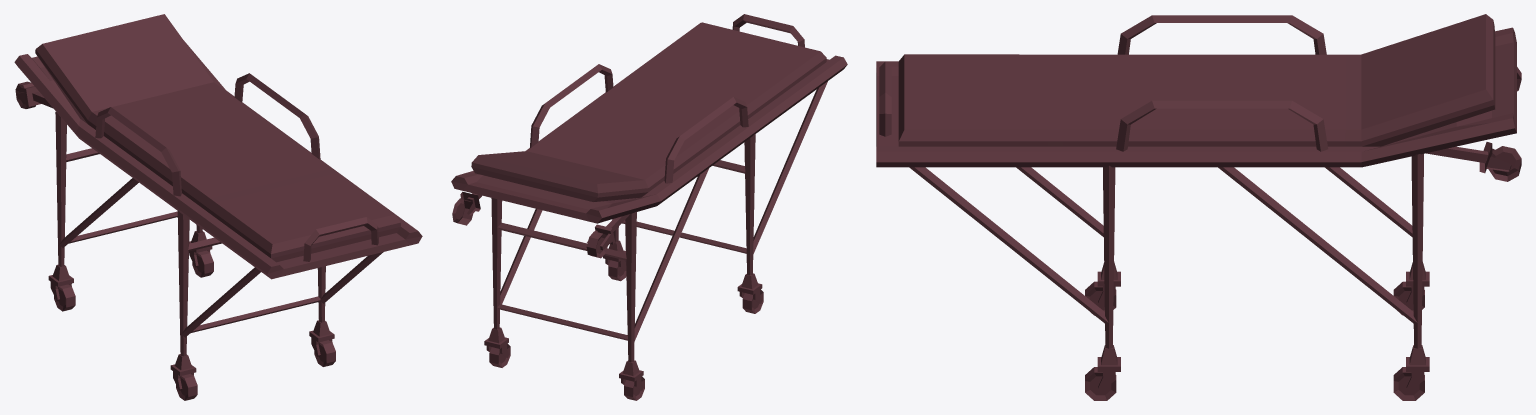
Rendered from apocalypse-stretcher-loading-b.glb.
3 views of the same model, side by side, from view 1: azimuth 30°, elevation 25°; view 2: azimuth 150°, elevation 25°; view 3: azimuth 270°, elevation 25° (orthographic). The views are drawn at different scales.
Parts seen in each view (by area): view 1: stretcher-loading-b; view 2: stretcher-loading-b; view 3: stretcher-loading-b.
Part boxes in pixels (x1,y1,x2,y2): stretcher-loading-b: (14, 14, 422, 400); stretcher-loading-b: (451, 14, 847, 400); stretcher-loading-b: (876, 14, 1521, 400).
Bounding box in the file's own units: 0.7284 × 1.08 × 2.08.
